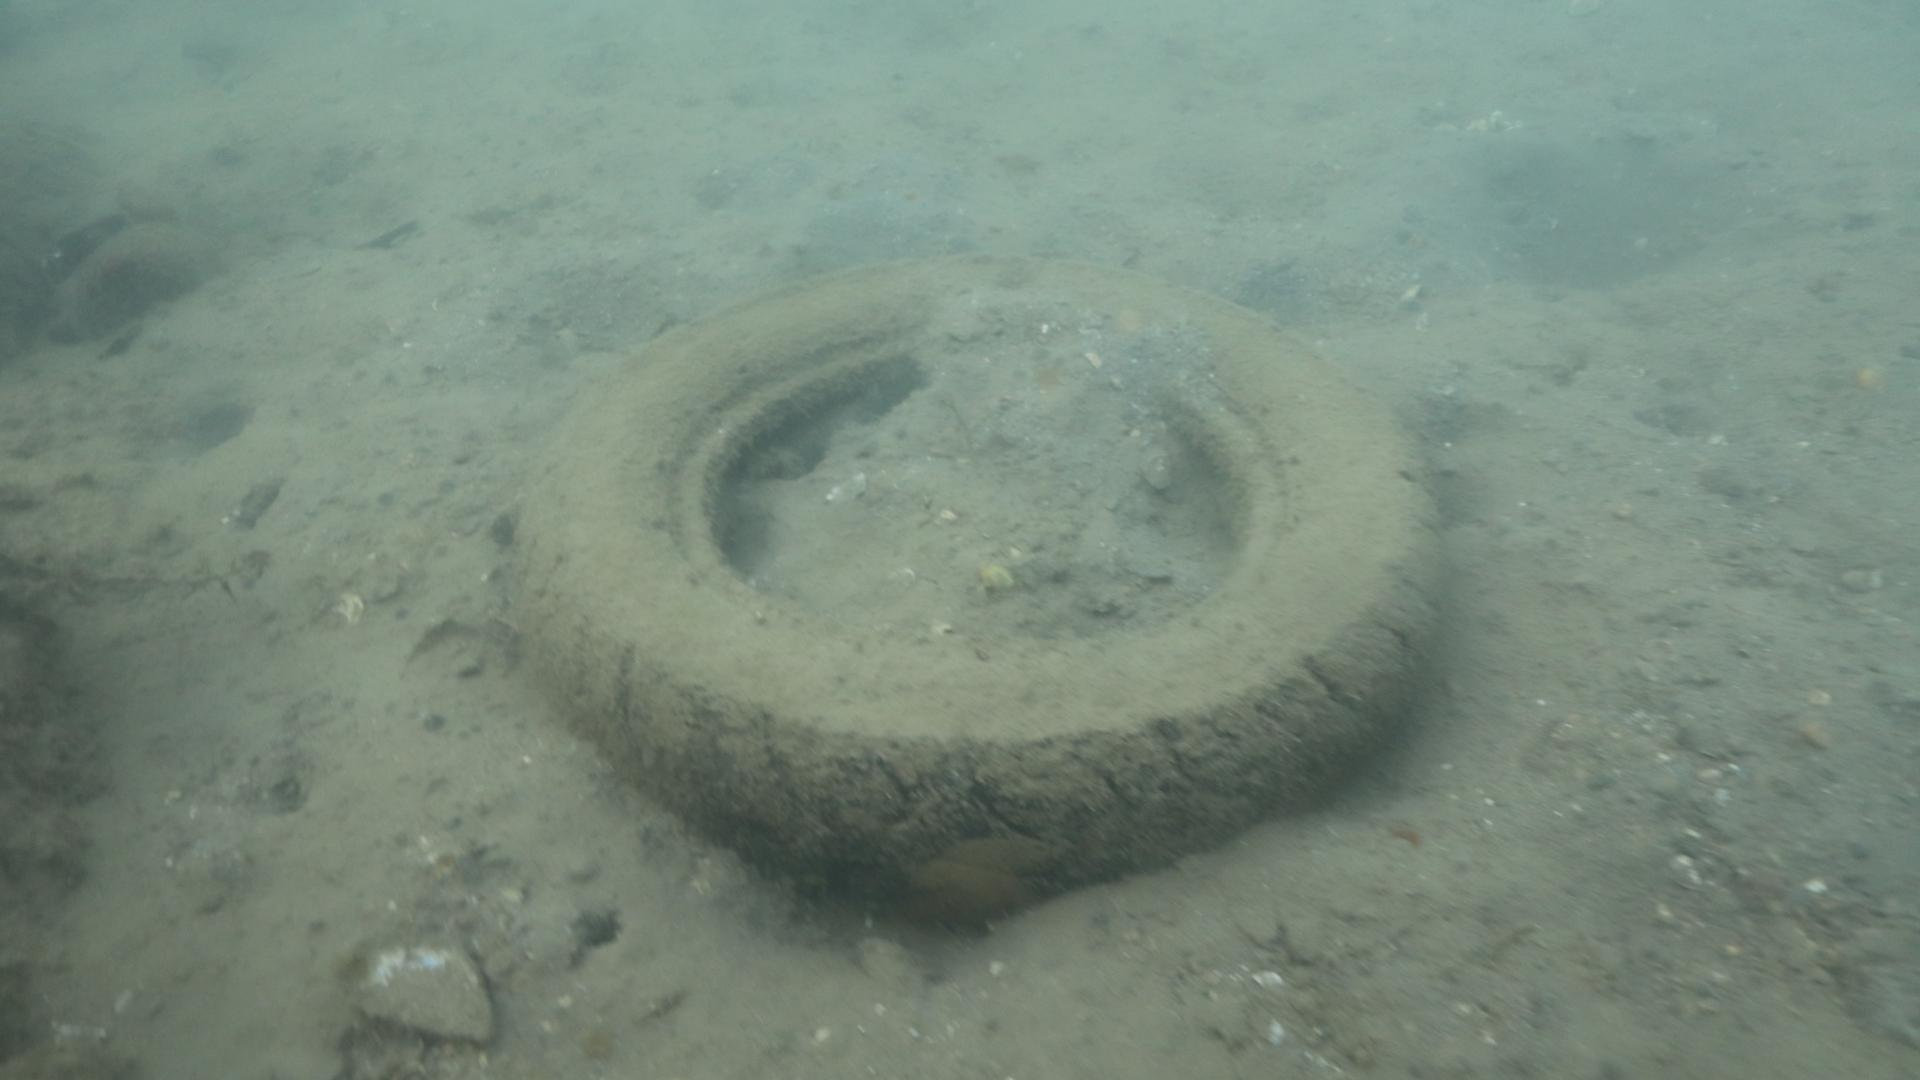tire: (509, 251, 1444, 922)
